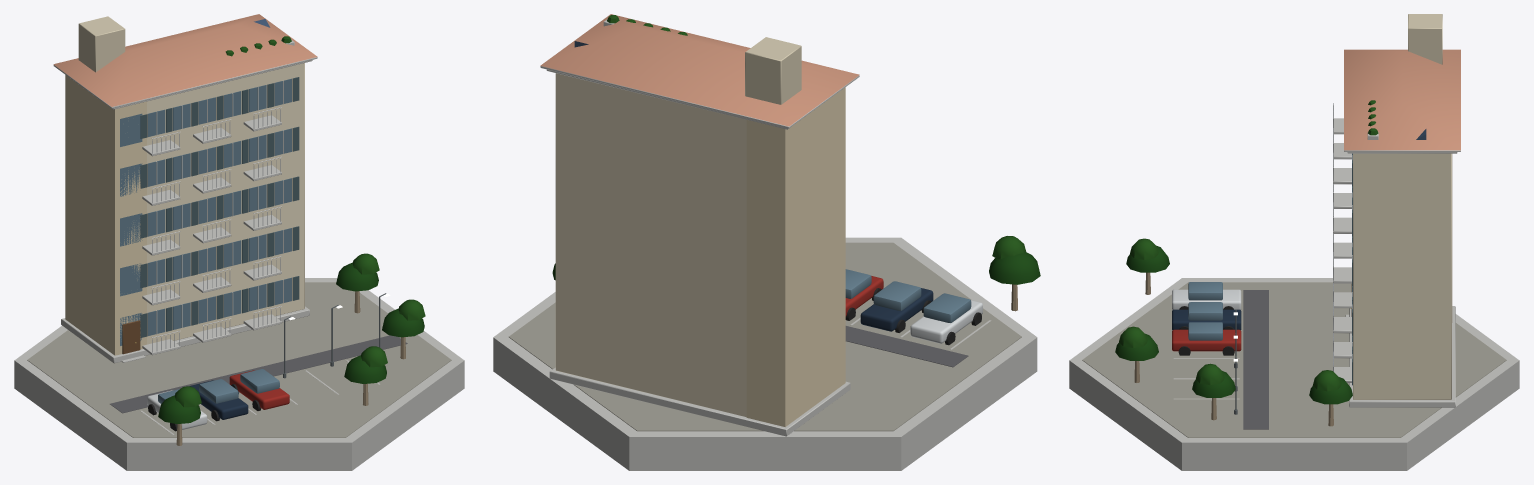
File: apartments_med.glb
3 renders of one model, left to right at view 1: azimuth 30°, elevation 25°; view 2: azimuth 150°, elevation 25°; view 3: azimuth 270°, elevation 25°, orthographic. The views are drawn at different scales.
Visible parts, largest first — view 1: pavers, wall_concrete, plaster, paint, glass, roof_tile, wood, leaf, metal, asphalt; view 2: plaster, paint, wall_concrete, pavers, roof_tile, glass, leaf, asphalt; view 3: plaster, pavers, wall_concrete, roof_tile, leaf, asphalt, paint, glass, wood.
Boxes of the visible parts, x1,y1,x2,y2 form: pavers: (27,282,451,437); wall_concrete: (14,40,464,470); plaster: (78,16,304,344); paint: (65,75,289,429); glass: (120,78,291,403); roof_tile: (53,14,317,106); wood: (122,77,405,445); leaf: (158,36,425,424); metal: (152,107,281,352); asphalt: (110,335,407,413); plaster: (555,37,801,416); paint: (746,87,982,426); wall_concrete: (493,19,1037,470); pavers: (509,242,1021,431); roof_tile: (540,14,859,126); glass: (845,269,971,322); leaf: (552,15,1040,284); asphalt: (845,326,968,367); plaster: (1353,14,1451,399); pavers: (1082,282,1506,437); wall_concrete: (1069,118,1519,470); roof_tile: (1344,49,1460,150); leaf: (1115,100,1378,404); asphalt: (1243,290,1268,429); paint: (1172,154,1452,351); glass: (1188,154,1352,358); wood: (1134,153,1352,426).
Bounding box in the file's own units: 21.3 × 20.04 × 24.6.
